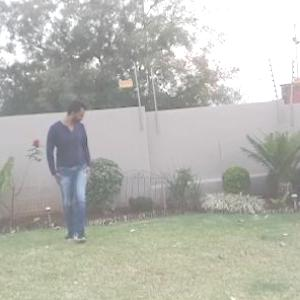follow: (41, 82, 94, 259)
